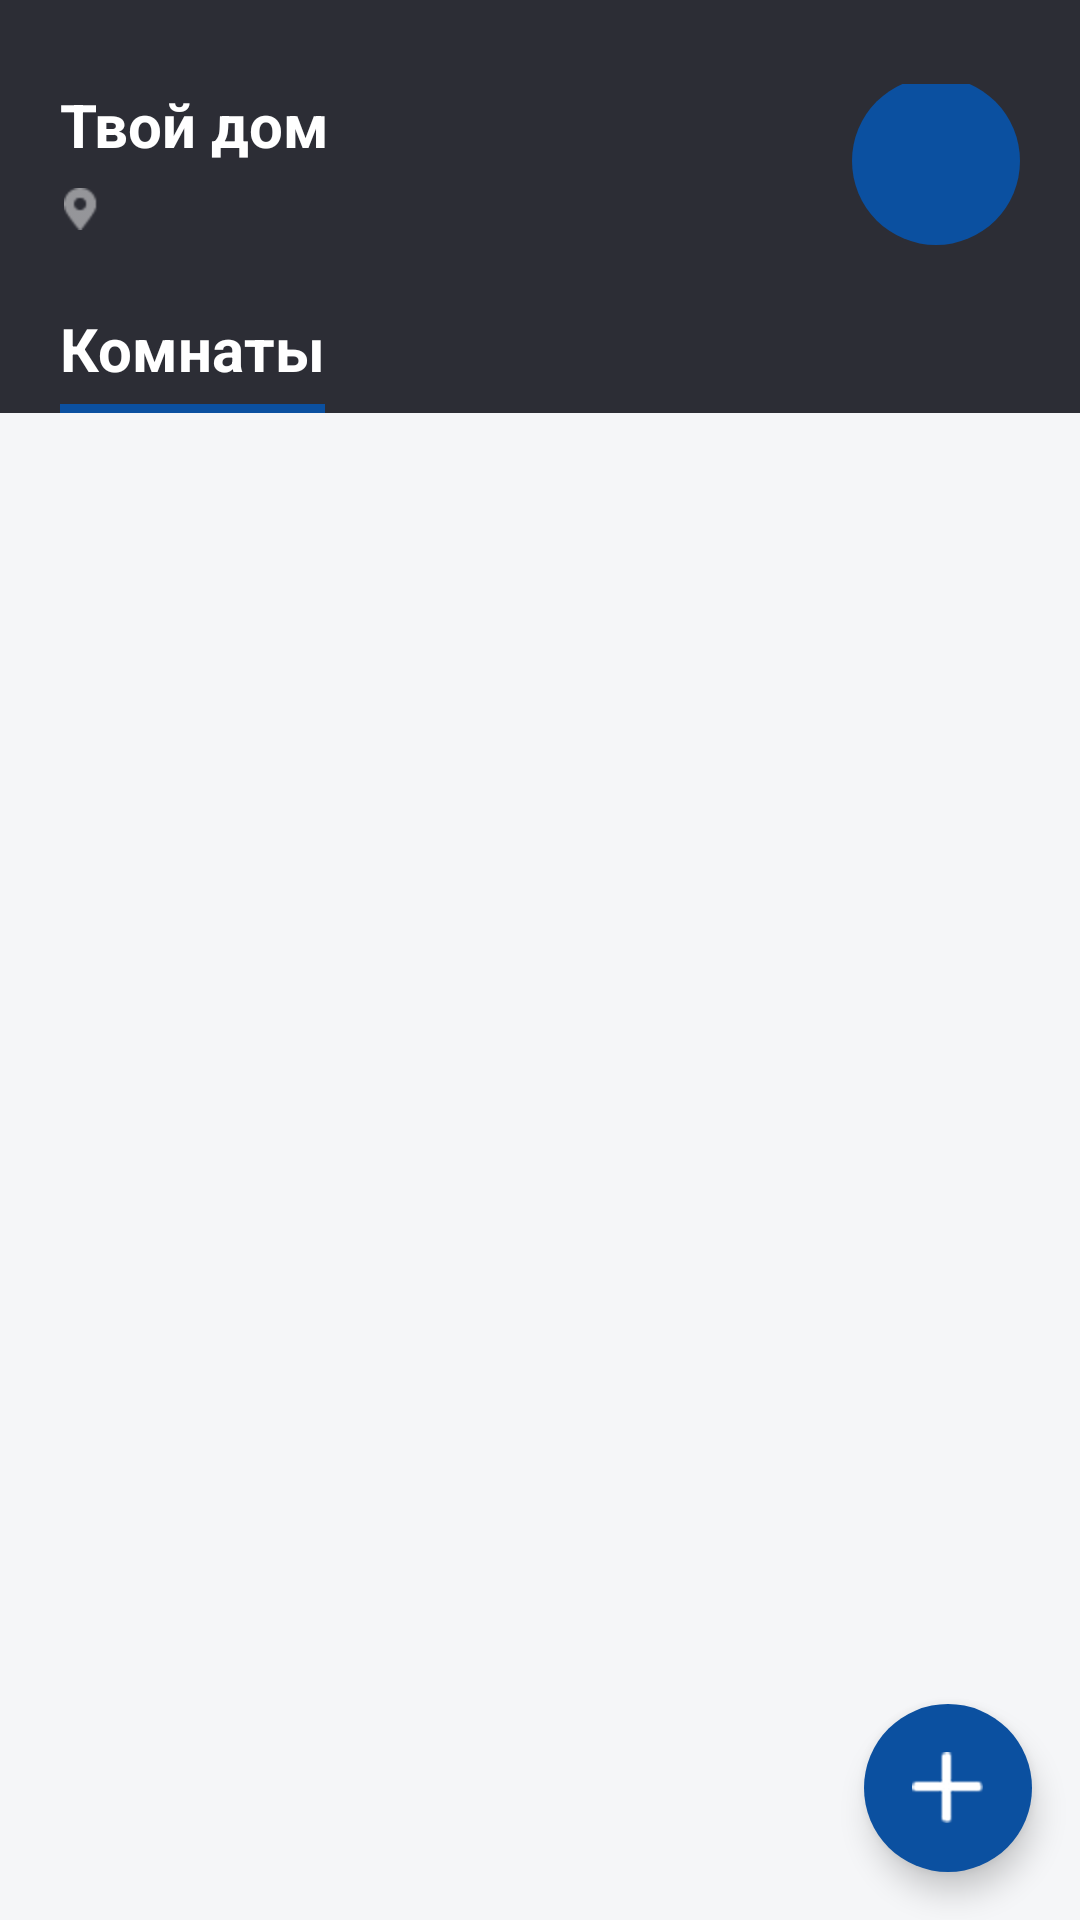

Point at icon controls on the screen. Image size 1080 × 1920, points as (x=x, y=y).
geomark: (x=80, y=209)
plus: (x=948, y=1788)
